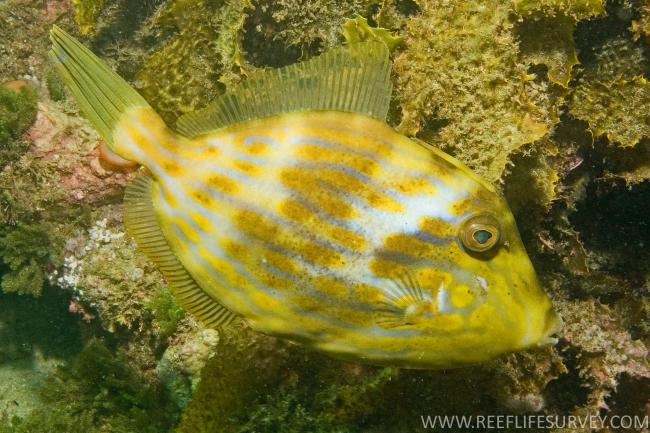fish: (47, 24, 564, 370)
